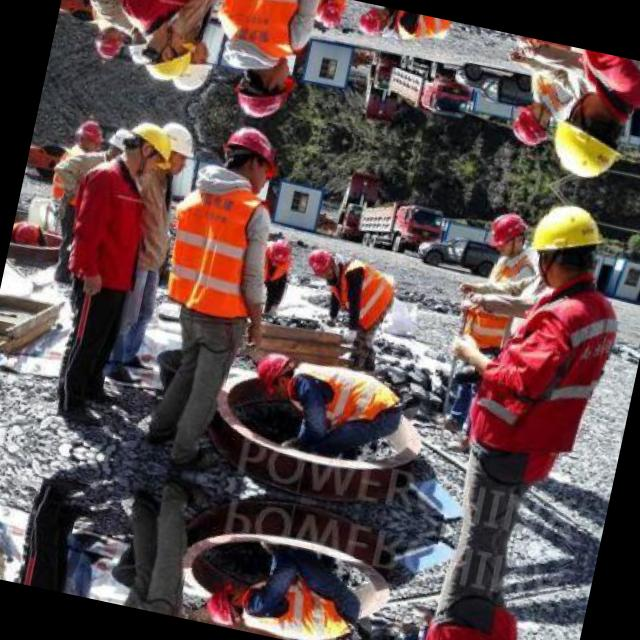helmet: (538, 86, 636, 190), (516, 191, 614, 294), (212, 120, 282, 189), (226, 54, 295, 124), (137, 23, 200, 88), (118, 116, 180, 180), (8, 210, 56, 272), (166, 38, 213, 97), (150, 116, 197, 174), (504, 98, 556, 150), (482, 206, 532, 258), (250, 350, 296, 393), (200, 583, 246, 626), (352, 3, 396, 42), (302, 242, 345, 280), (104, 124, 142, 165), (124, 28, 162, 69), (73, 112, 106, 152), (92, 26, 125, 66), (262, 232, 296, 270), (313, 0, 347, 33)
